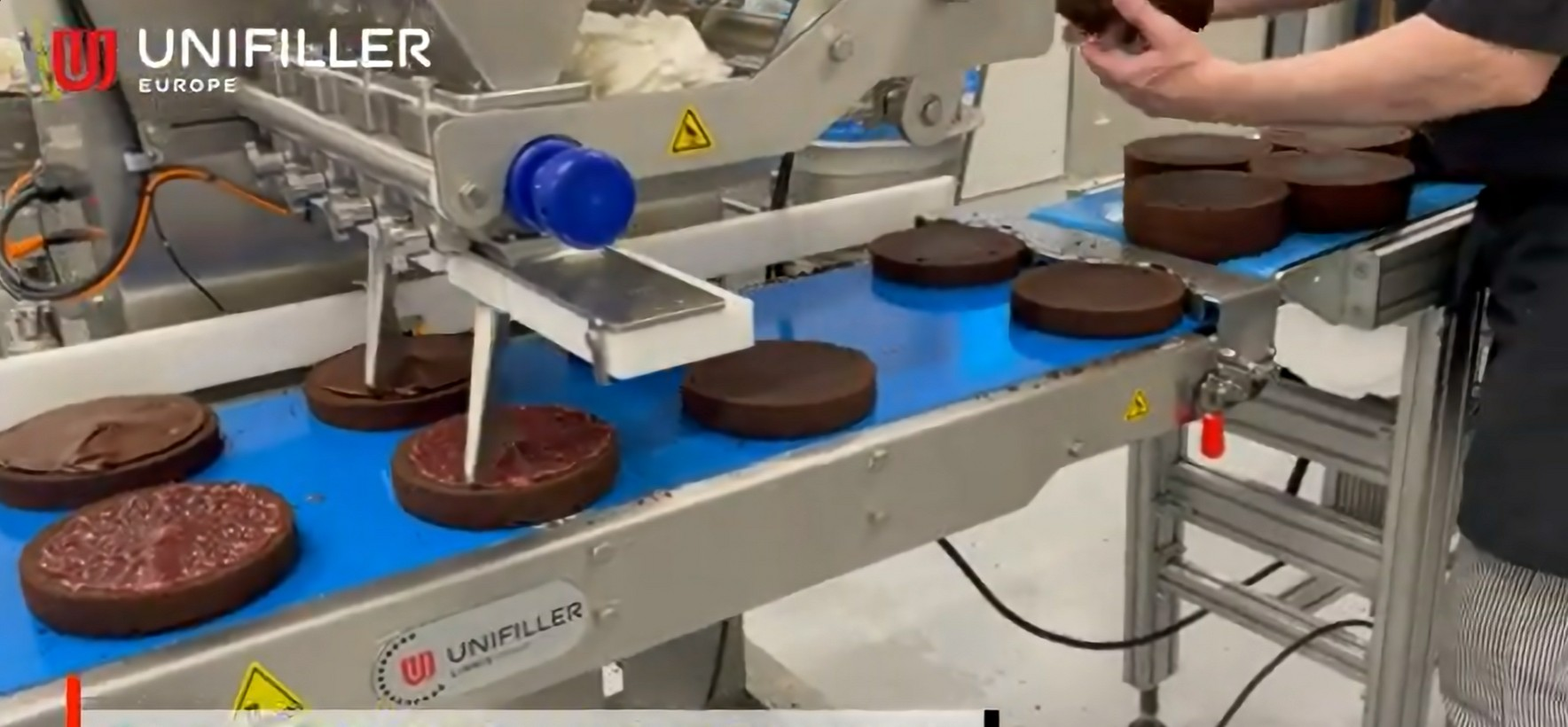Chocolate Cake: (1121, 168, 1291, 245), (1249, 156, 1418, 233), (1011, 269, 1183, 337), (880, 223, 1026, 288), (1119, 138, 1275, 182), (1258, 123, 1414, 153)
Chocolate Coated: (22, 479, 296, 612), (380, 405, 620, 526), (0, 385, 219, 511), (682, 340, 877, 438), (299, 337, 478, 429)
